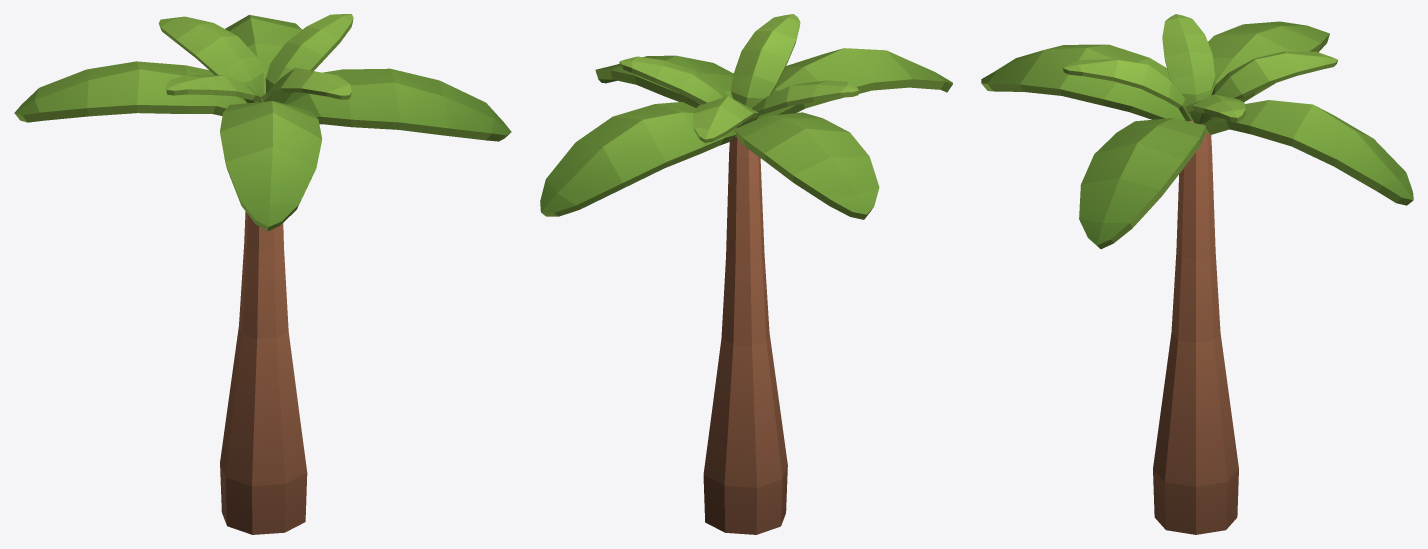
Rendered from palm-tree-large-3.glb.
3 views of the same model, side by side, from view 1: azimuth 30°, elevation 25°; view 2: azimuth 150°, elevation 25°; view 3: azimuth 270°, elevation 25° (orthographic). The views are drawn at different scales.
Visible parts, largest first — view 1: palm tree large 3; view 2: palm tree large 3; view 3: palm tree large 3.
Part boxes in pixels (<box>): palm tree large 3: <box>14,14,511,534</box>; palm tree large 3: <box>540,14,952,534</box>; palm tree large 3: <box>981,14,1413,534</box>.
Bounding box in the file's own units: 5.66 × 6.63 × 5.62.
1 material, 1 textured.
